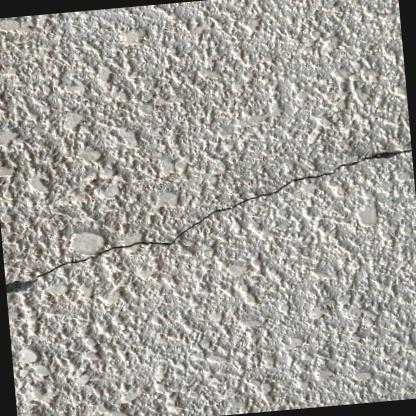crack: (6, 149, 412, 286)
